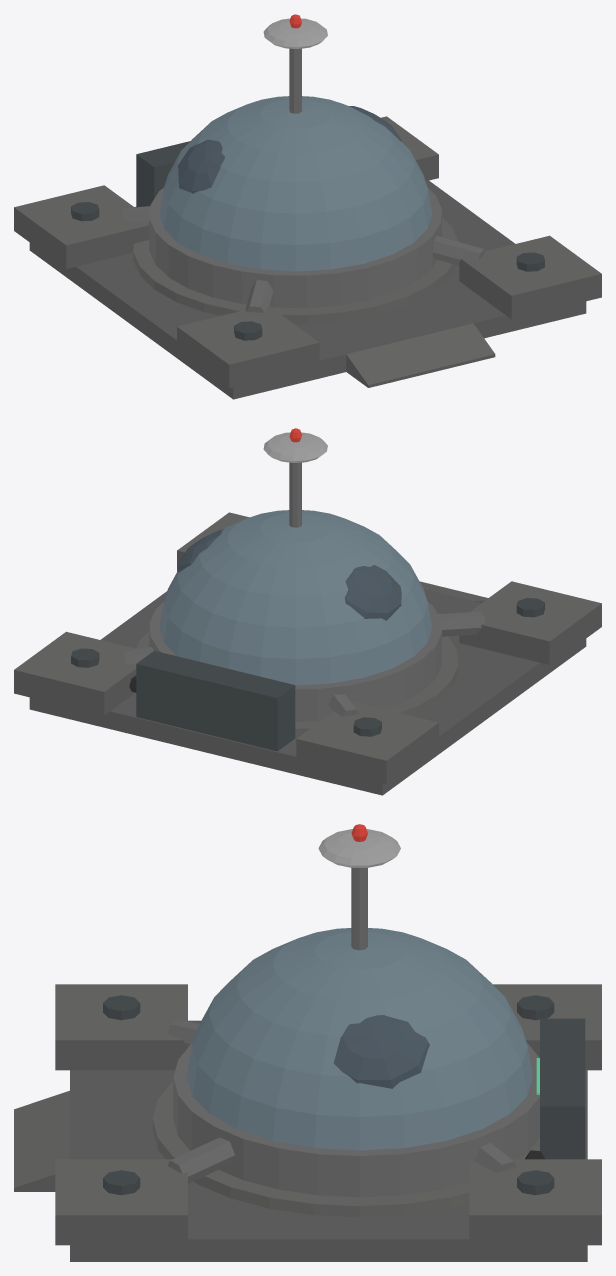
The model's file is Building_GroundPenetratingScanner.glb.
3 views of the same model, one above another, from view 1: azimuth 30°, elevation 25°; view 2: azimuth 150°, elevation 25°; view 3: azimuth 270°, elevation 25° (orthographic). The views are drawn at different scales.
Visible parts, largest first — view 1: GroundPenetratingScanner; view 2: GroundPenetratingScanner; view 3: GroundPenetratingScanner.
Part boxes in pixels (left/top/right/bottom): GroundPenetratingScanner: left=14, top=14, right=601, bottom=399; GroundPenetratingScanner: left=14, top=428, right=601, bottom=795; GroundPenetratingScanner: left=14, top=824, right=601, bottom=1261.
Bounding box in the file's own units: 2.64 × 2.09 × 2.84.
Materials: 1 (1 with a texture image).
